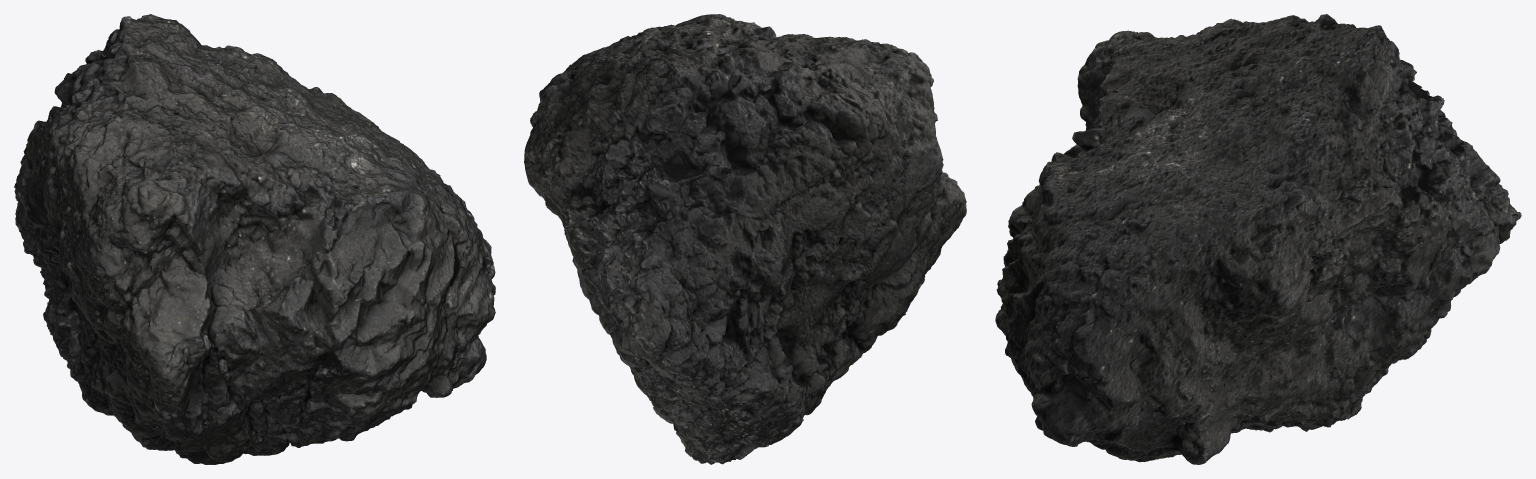
Rendered from apollo_lunar_sample_701750.glb.
3 views of the same model, side by side, from view 1: azimuth 30°, elevation 25°; view 2: azimuth 150°, elevation 25°; view 3: azimuth 270°, elevation 25° (orthographic). The views are drawn at different scales.
Visible parts, largest first — view 1: Object_2, Object_3, Object_4; view 2: Object_3, Object_2, Object_4; view 3: Object_2, Object_3, Object_4.
Boxes of the visible parts, box(x1,y1,x2,y2) form: Object_2: box(59, 45, 495, 463); Object_3: box(14, 14, 456, 457); Object_4: box(47, 90, 495, 464); Object_3: box(525, 22, 966, 464); Object_2: box(524, 14, 966, 458); Object_4: box(524, 14, 910, 463); Object_2: box(995, 19, 1398, 464); Object_3: box(1005, 14, 1521, 461); Object_4: box(996, 167, 1371, 464).
Size of the model in its own units: 0.0636 by 0.0644 by 0.0744.
1 material, 1 textured.
